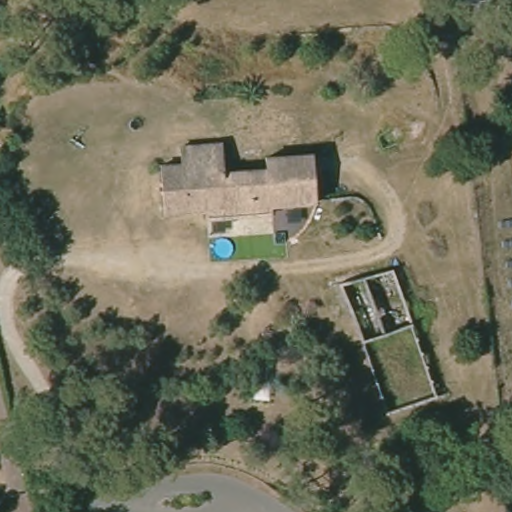pool: (208, 237, 239, 263)
